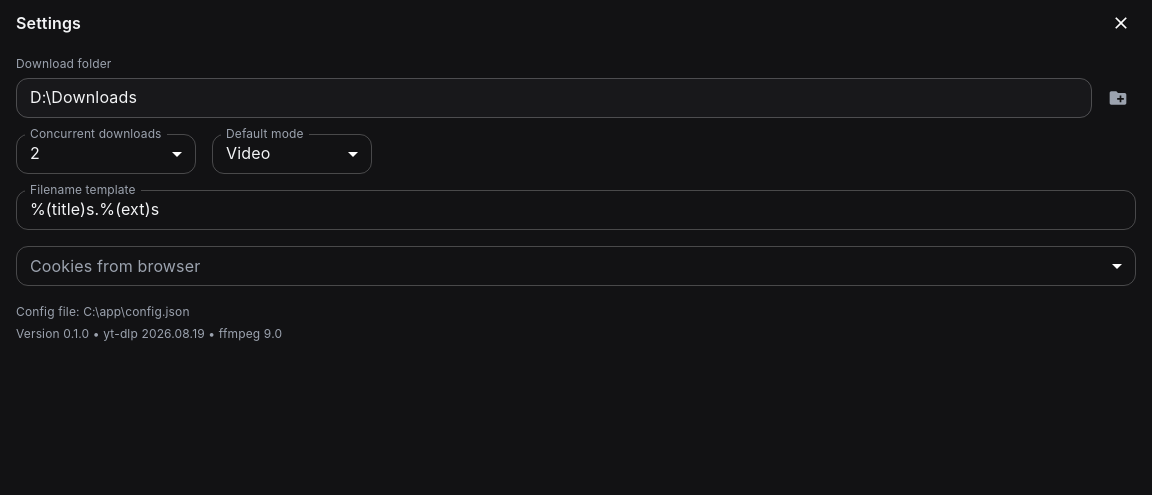
Test: SettingsScreen › does not save a concurrency outside 1-8
This screenshot has width=1152, height=495.
Press the mouse on the dropdown named "concurrent downloads" at point(35, 153), box [30,143,40,163]
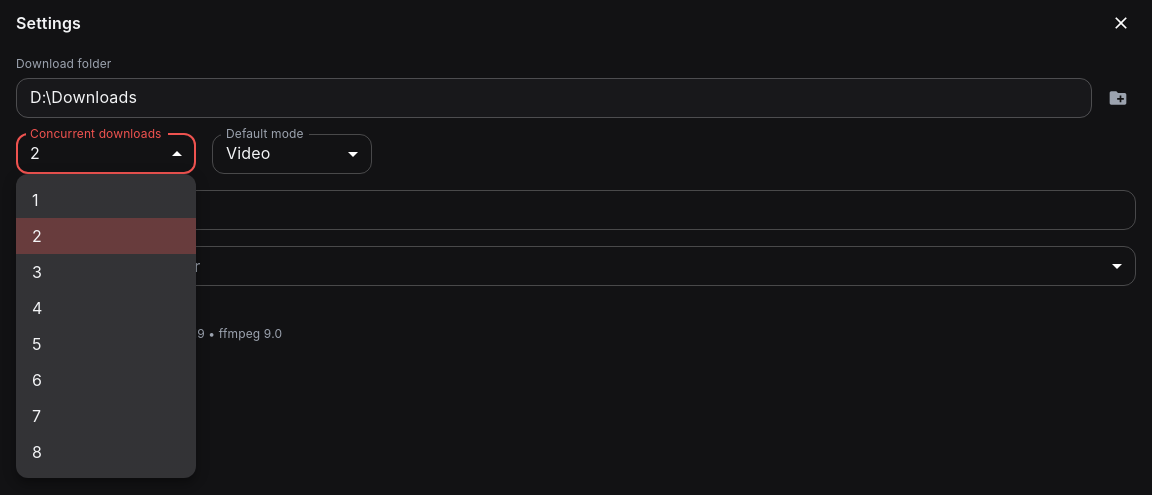
Expected: the option "1" is shown, [32,190,39,210]
Expected: the option "8" is shown, [32,442,42,462]
